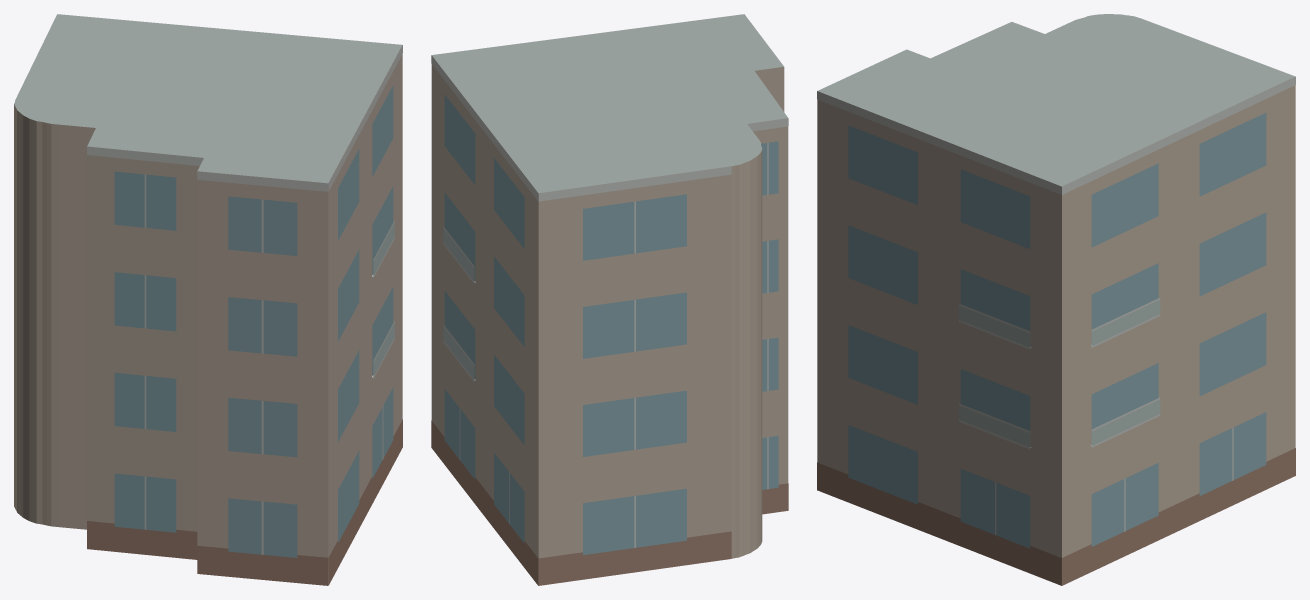
The model's file is survey-upis-32526077.glb.
3 renders of one model, left to right at view 1: azimuth 30°, elevation 25°; view 2: azimuth 150°, elevation 25°; view 3: azimuth 270°, elevation 25°, orthographic. The views are drawn at different scales.
Parts seen in each view (by area): view 1: survey-upis-32526077.tmp; view 2: survey-upis-32526077.tmp; view 3: survey-upis-32526077.tmp.
Boxes of the visible parts, x1,y1,x2,y2 form: survey-upis-32526077.tmp: [14, 14, 402, 585]; survey-upis-32526077.tmp: [431, 14, 788, 585]; survey-upis-32526077.tmp: [817, 14, 1295, 585].
Size of the model in its own units: 10.67 by 11.5 by 12.5.
